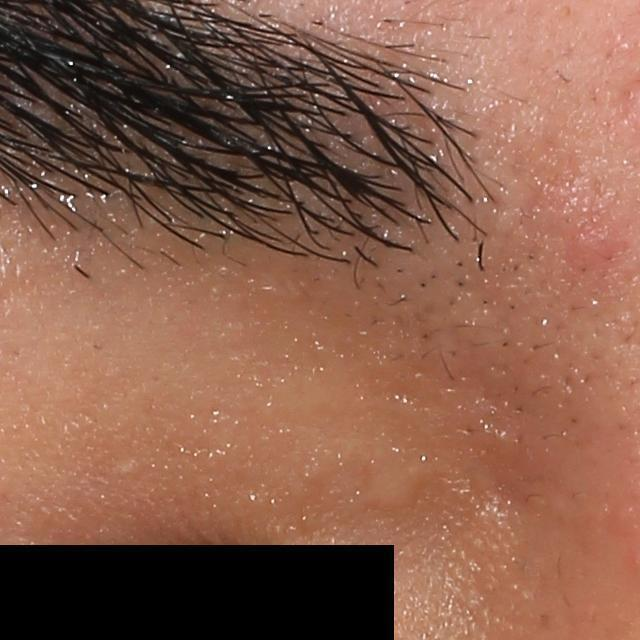papule: (562, 219, 621, 274)
